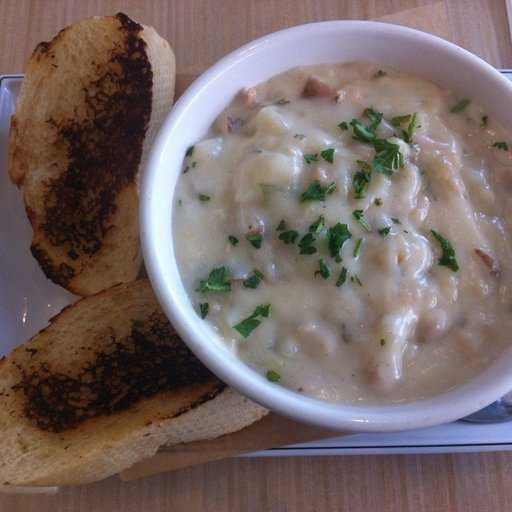soup: (169, 34, 512, 414)
